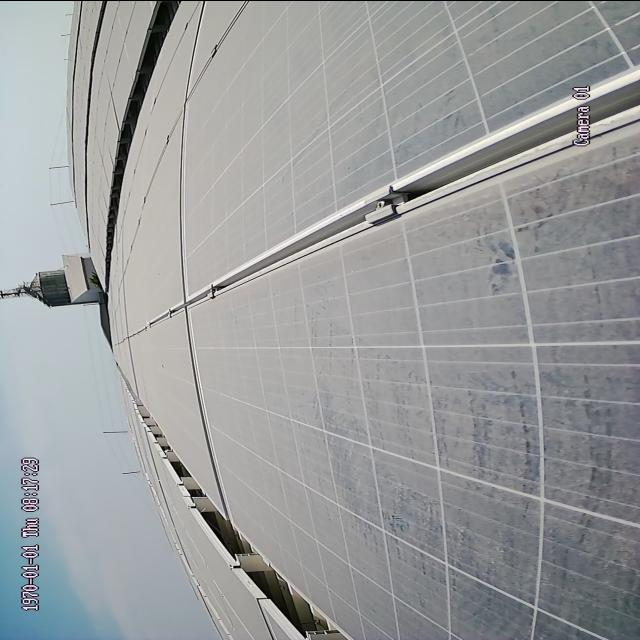interior panel: (133, 66, 614, 341), (164, 323, 226, 442), (170, 98, 199, 251)
outher panel: (146, 405, 368, 633), (103, 4, 192, 254)
